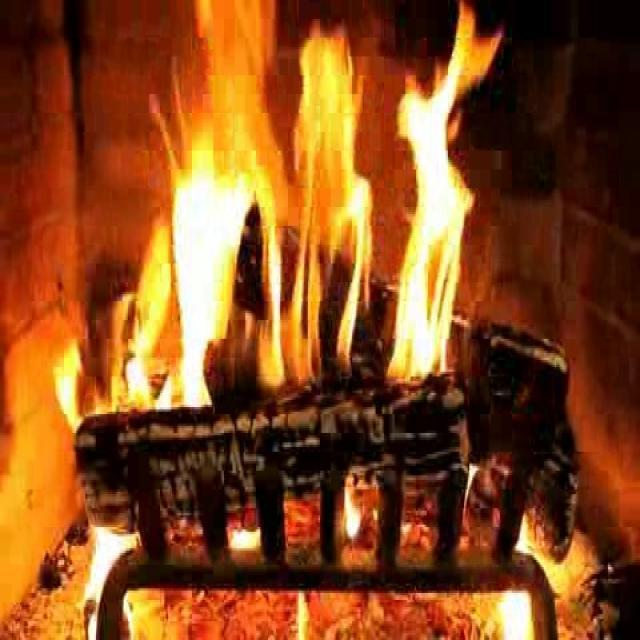Fire: (136, 23, 478, 444)
